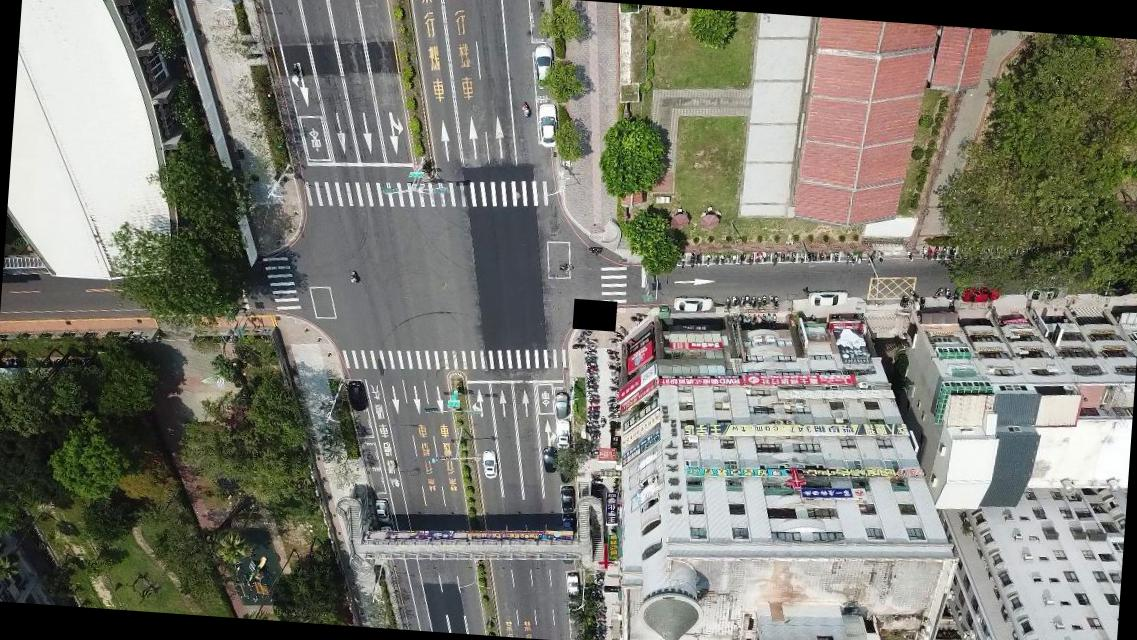vehicle: (530, 44, 556, 89), (534, 104, 557, 148), (672, 294, 713, 314), (807, 290, 848, 308), (962, 284, 1000, 303), (1024, 284, 1068, 300), (345, 381, 367, 411), (551, 391, 571, 420), (480, 449, 498, 478), (564, 574, 584, 600), (553, 420, 570, 450), (540, 446, 558, 474), (558, 485, 576, 513), (372, 498, 390, 522)
